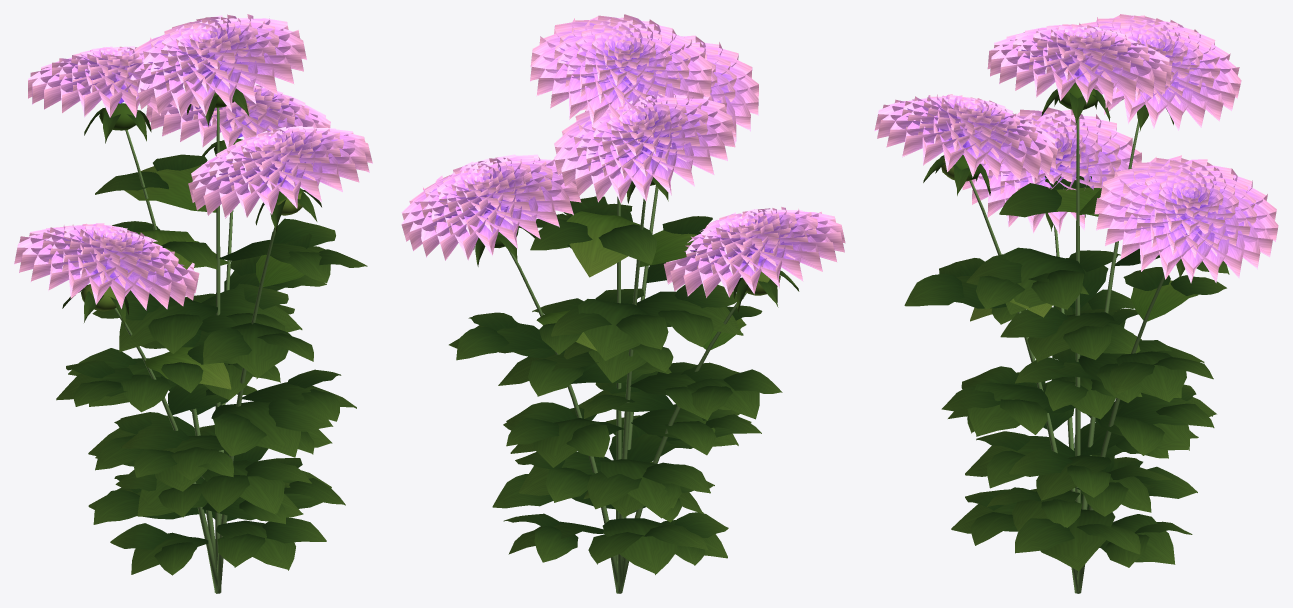
The model's file is dahlia-dream-10-lod.glb.
The picture shows the model from 3 angles, left to right: view 1: azimuth 30°, elevation 25°; view 2: azimuth 150°, elevation 25°; view 3: azimuth 270°, elevation 25°; orthographic projection.
Parts seen in each view (by area): view 1: dahlia_dream_stage_10_leaf_veins.021, dahlia_dream_stage_10_dahlia_petal.021, dahlia_dream_stage_10_young_leaf.021, dahlia_dream_stage_10_stem_fibres.021; view 2: dahlia_dream_stage_10_leaf_veins.021, dahlia_dream_stage_10_dahlia_petal.021, dahlia_dream_stage_10_young_leaf.021, dahlia_dream_stage_10_stem_fibres.021; view 3: dahlia_dream_stage_10_leaf_veins.021, dahlia_dream_stage_10_dahlia_petal.021, dahlia_dream_stage_10_stem_fibres.021, dahlia_dream_stage_10_young_leaf.021.
Part boxes in pixels (bbox=[...]): dahlia_dream_stage_10_leaf_veins.021: bbox=[56, 88, 367, 575]; dahlia_dream_stage_10_dahlia_petal.021: bbox=[14, 14, 372, 310]; dahlia_dream_stage_10_young_leaf.021: bbox=[81, 92, 304, 389]; dahlia_dream_stage_10_stem_fibres.021: bbox=[114, 107, 278, 593]; dahlia_dream_stage_10_leaf_veins.021: bbox=[449, 177, 799, 574]; dahlia_dream_stage_10_dahlia_petal.021: bbox=[401, 14, 845, 297]; dahlia_dream_stage_10_young_leaf.021: bbox=[494, 180, 780, 351]; dahlia_dream_stage_10_stem_fibres.021: bbox=[508, 186, 746, 593]; dahlia_dream_stage_10_leaf_veins.021: bbox=[904, 89, 1229, 571]; dahlia_dream_stage_10_dahlia_petal.021: bbox=[874, 14, 1278, 283]; dahlia_dream_stage_10_stem_fibres.021: bbox=[969, 117, 1164, 593]; dahlia_dream_stage_10_young_leaf.021: bbox=[941, 82, 1197, 321].
Bounding box in the file's own units: 0.4945 × 0.7441 × 0.4861.
4 materials, 3 textured.
